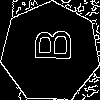B: (25, 27, 72, 62)
